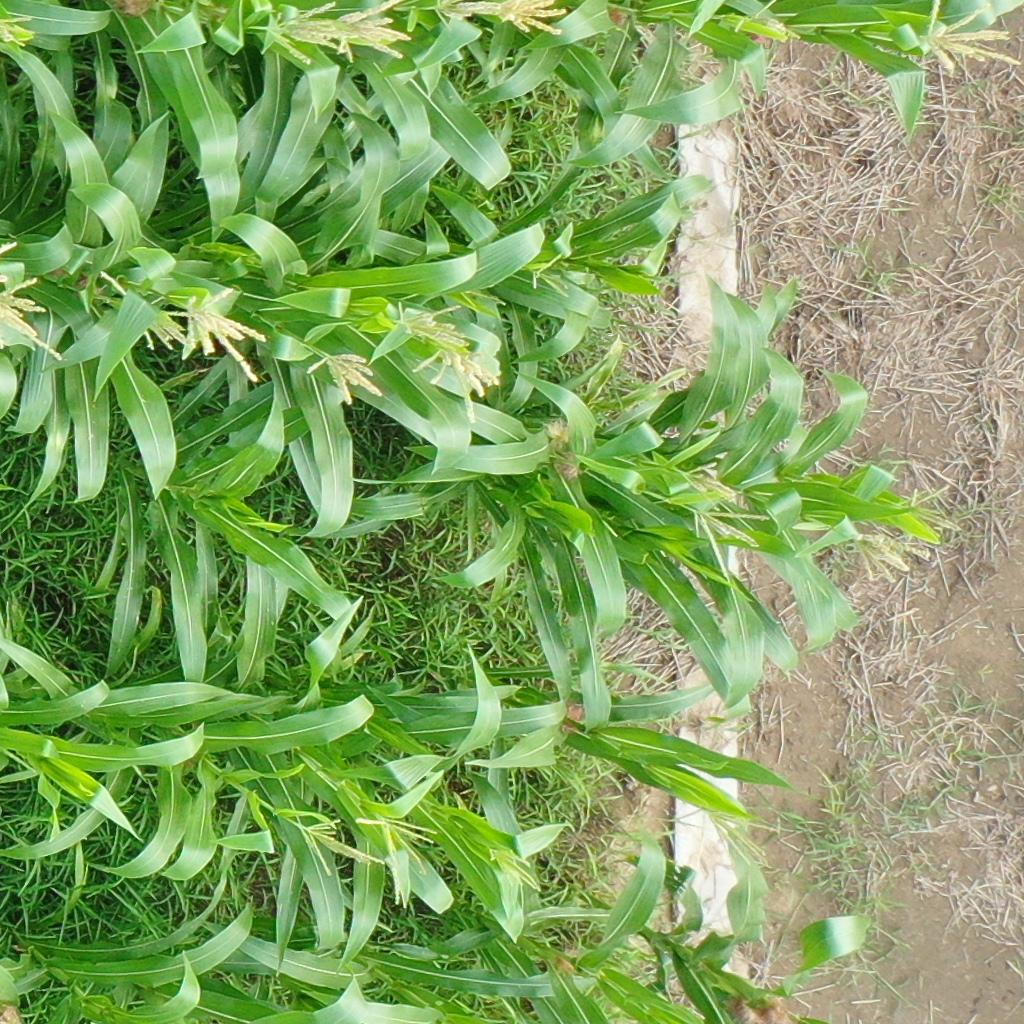Tassel: (174, 285, 272, 388), (97, 268, 196, 356), (410, 333, 503, 423), (1, 239, 66, 365), (357, 811, 439, 905), (917, 1, 1024, 73), (687, 504, 768, 584), (259, 1, 344, 70), (849, 527, 936, 589), (330, 1, 412, 66), (301, 814, 385, 874), (701, 806, 780, 869), (391, 299, 470, 359), (304, 351, 387, 405), (723, 1, 802, 40), (904, 477, 961, 531), (678, 457, 738, 507), (521, 246, 573, 300), (486, 844, 545, 891), (597, 655, 672, 691), (495, 1, 567, 38), (432, 1, 504, 27), (1, 13, 35, 49)
